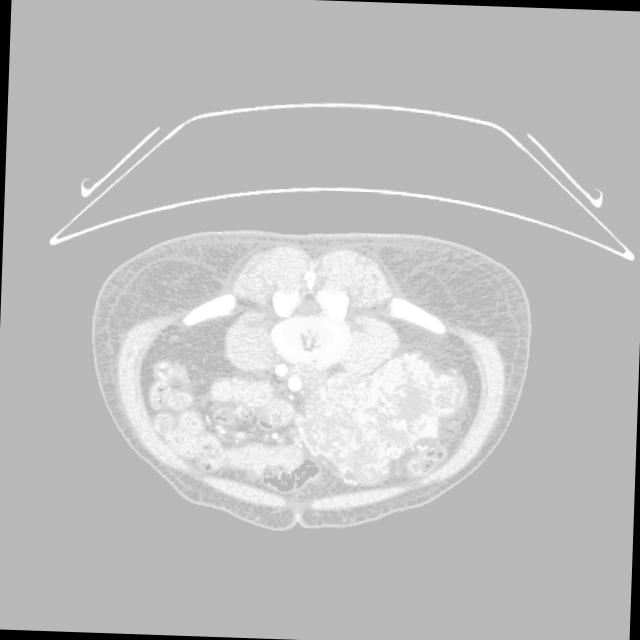TUMOR: (93, 295, 475, 506)
